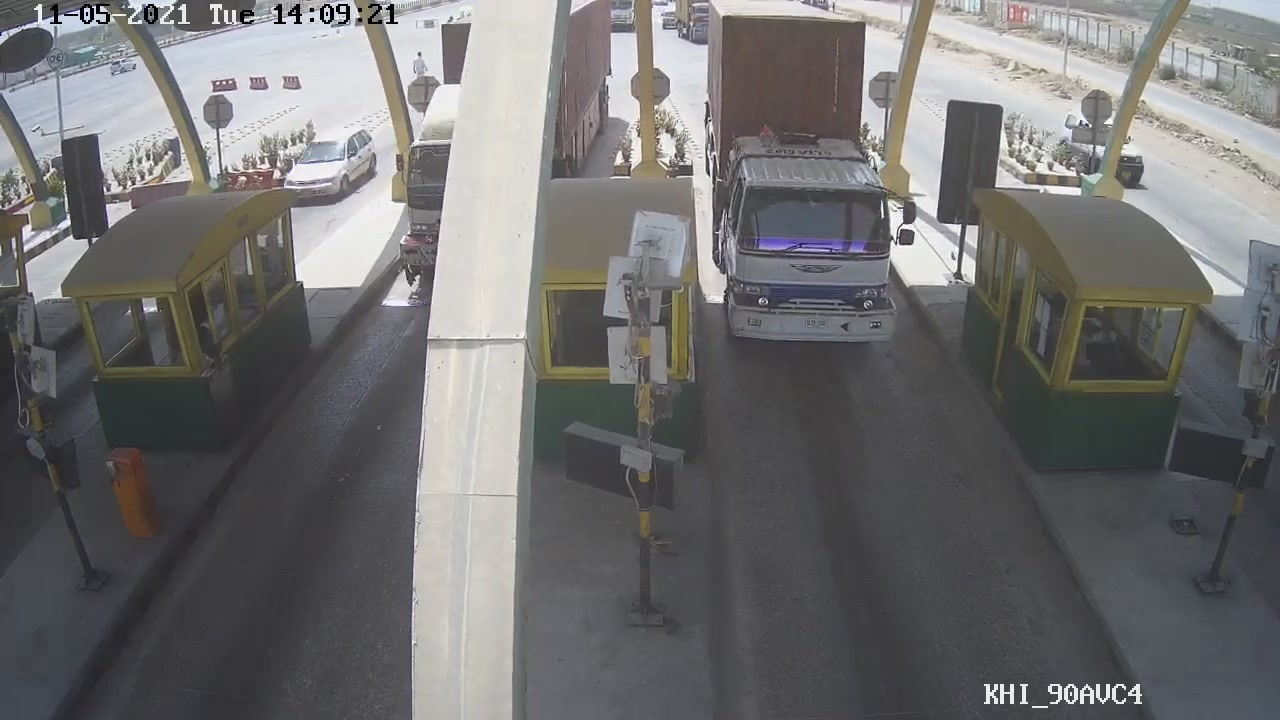F6: (697, 5, 917, 347)
